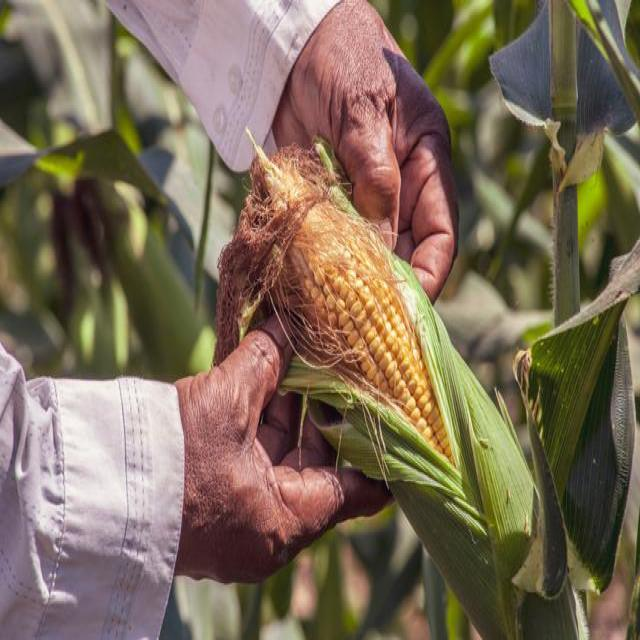Corn: (227, 147, 562, 605)
